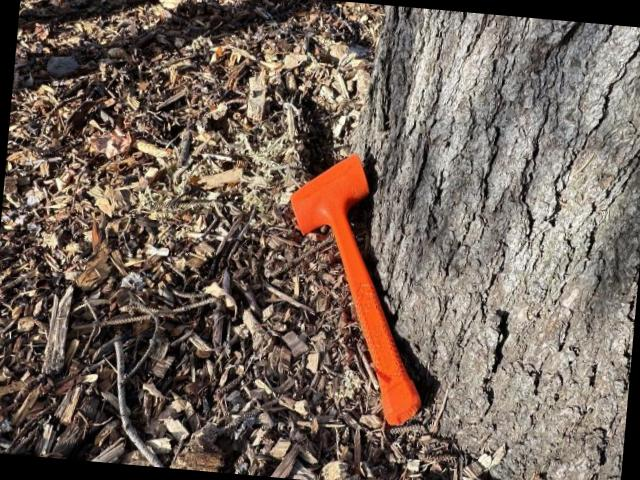hammer: (269, 149, 442, 429)
